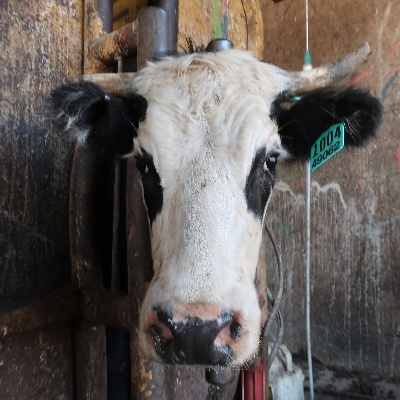fidget_spinner: (140, 290, 253, 370)
